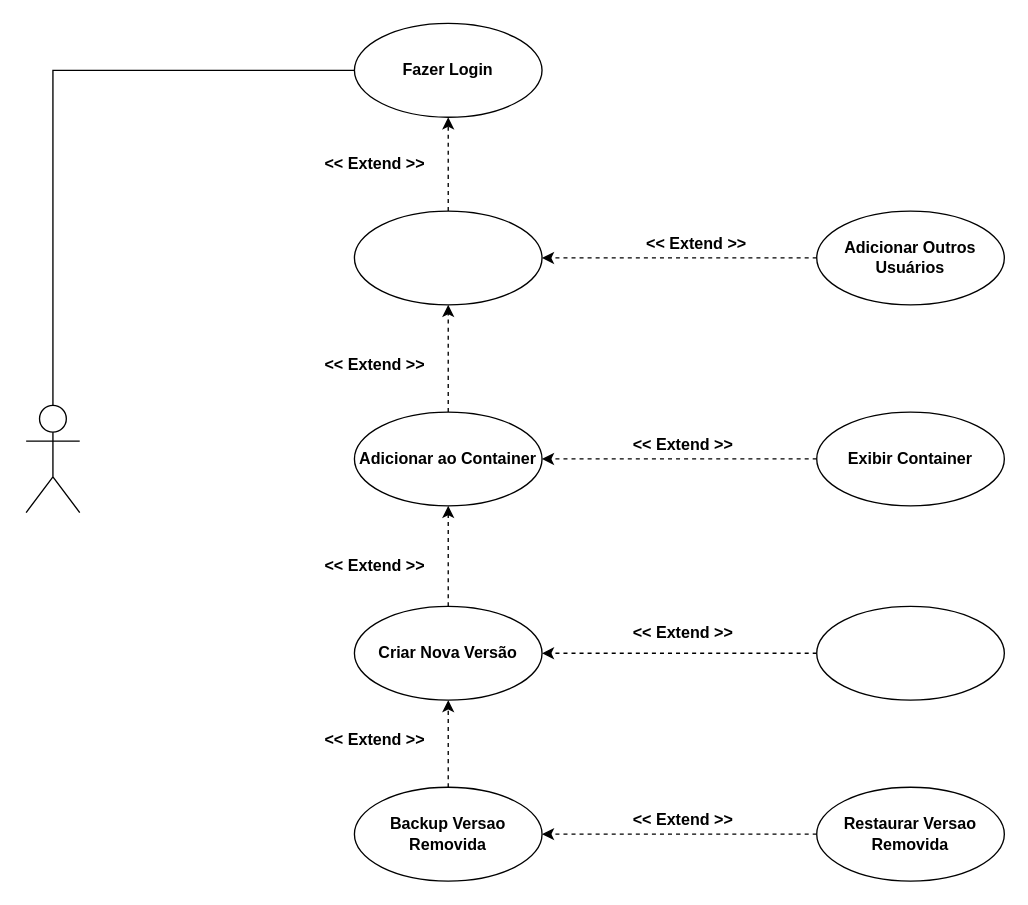
Some shapes in this 1028 by 905 pixel diagram are drawn without their labels. Each missing label, with the box of its shape:
Iniciar Repositorio: (353, 210, 542, 305)
Remover Versão: (815, 605, 1004, 700)
Usuário: (25, 404, 80, 513)
